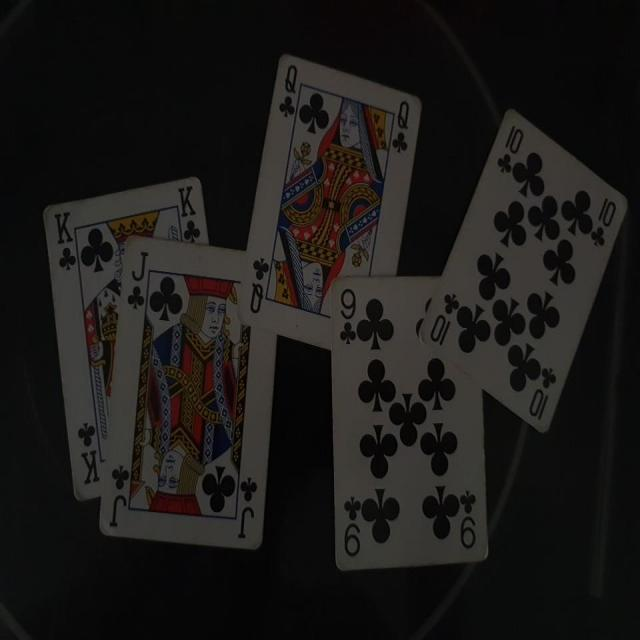10 of clubs: (416, 108, 626, 436)
9 of clubs: (329, 272, 492, 572)
jack of clubs: (96, 236, 276, 554)
king of clubs: (43, 174, 209, 503)
queen of clubs: (234, 53, 421, 350)
